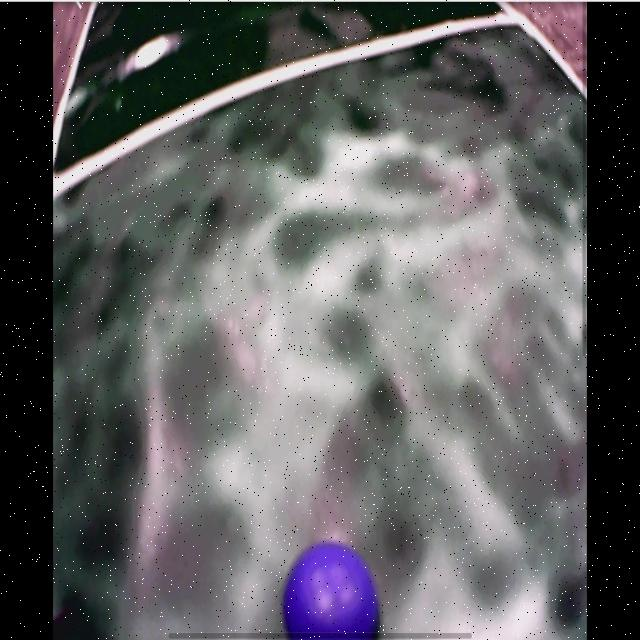ball: (283, 543, 380, 639)
